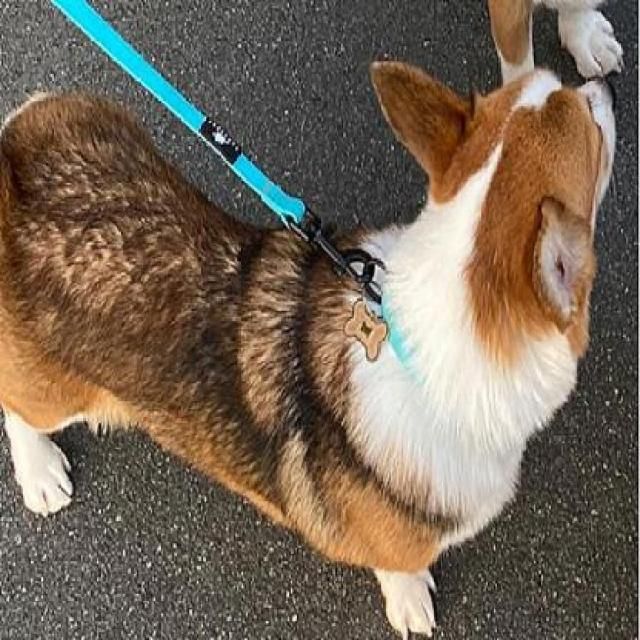Dog: (0, 59, 620, 638)
